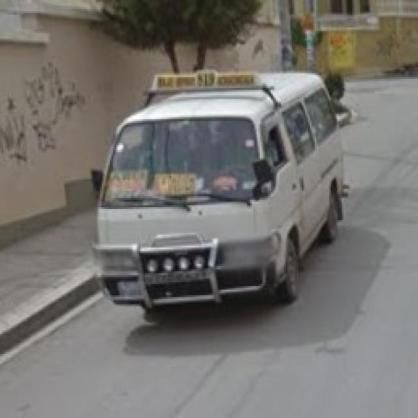car: (97, 69, 349, 311)
